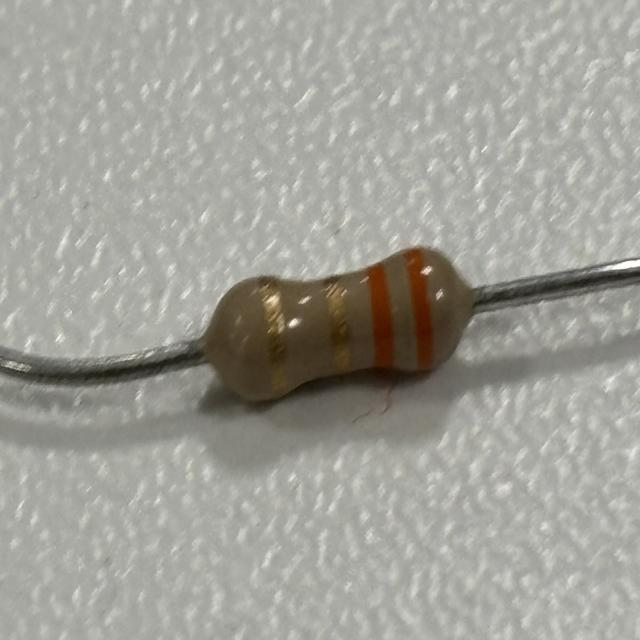resistor: (218, 245, 464, 410)
